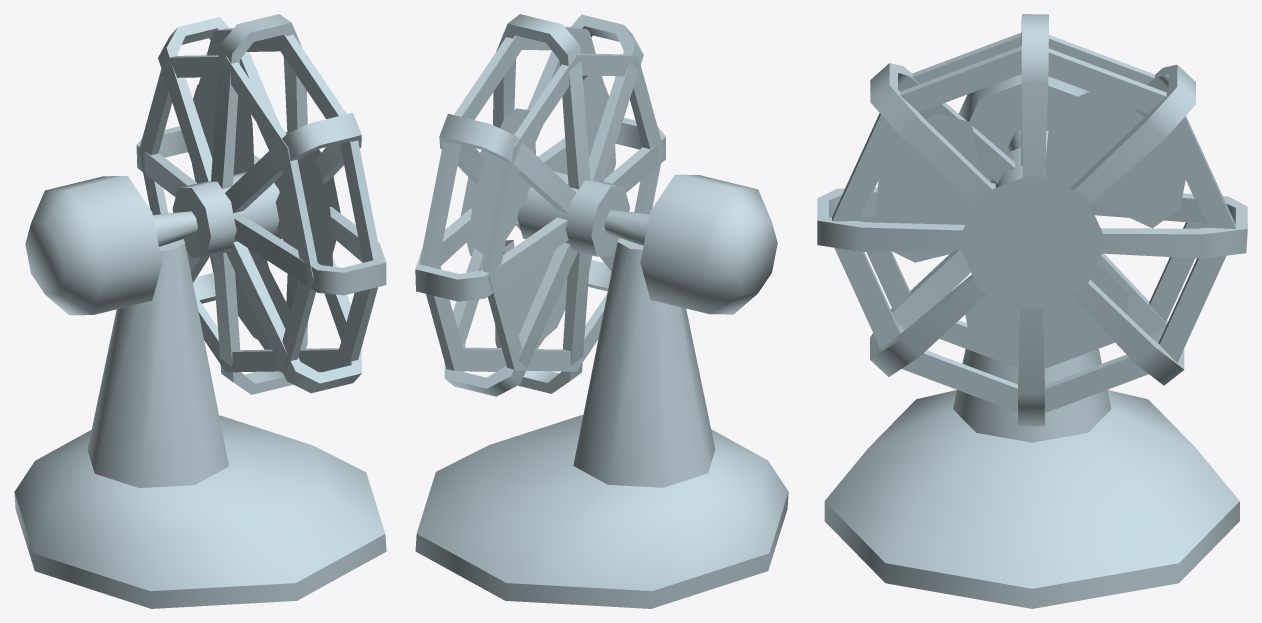
The model's file is SM_Fan.fbx.
3 views of the same model, side by side, from view 1: azimuth 30°, elevation 25°; view 2: azimuth 150°, elevation 25°; view 3: azimuth 270°, elevation 25° (orthographic). The views are drawn at different scales.
Visible parts, largest first — view 1: SM_Fan; view 2: SM_Fan; view 3: SM_Fan.
Boxes of the visible parts, x1,y1,x2,y2 form: SM_Fan: [14, 14, 386, 608]; SM_Fan: [415, 14, 788, 608]; SM_Fan: [817, 14, 1247, 608].
Size of the model in its own units: 0.3256 by 0.4571 by 0.3364.
1 material, 1 textured.
